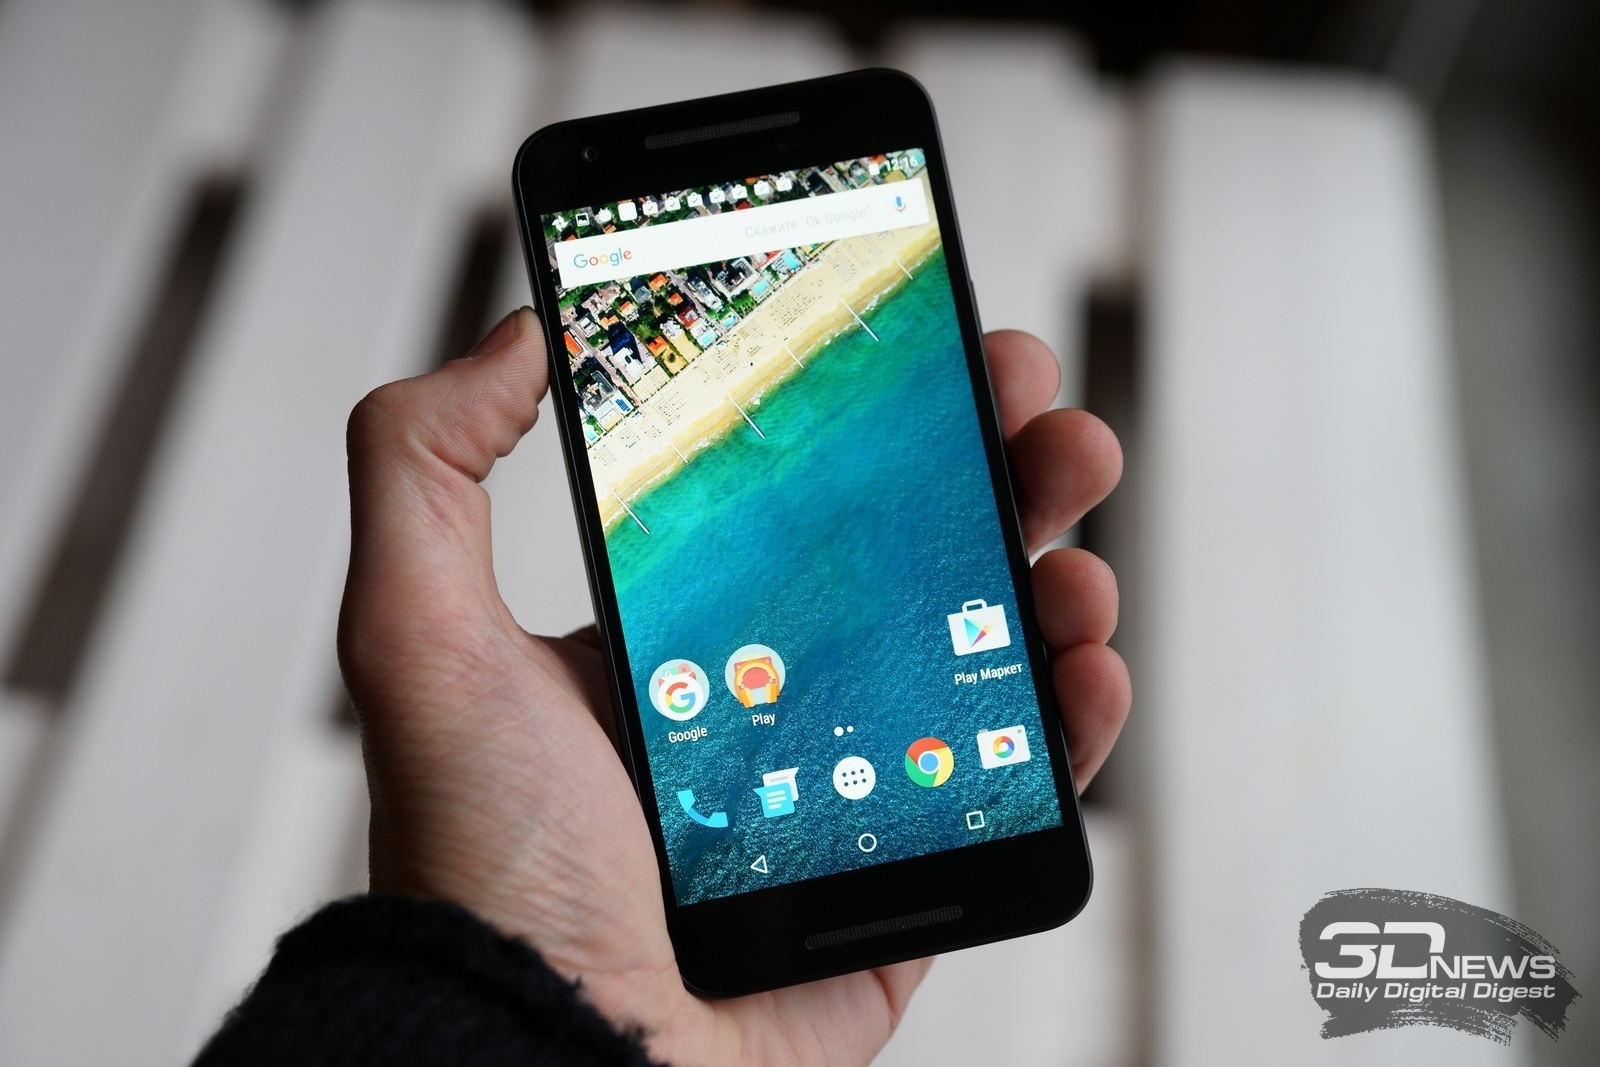smartphone: (513, 65, 1094, 1000)
